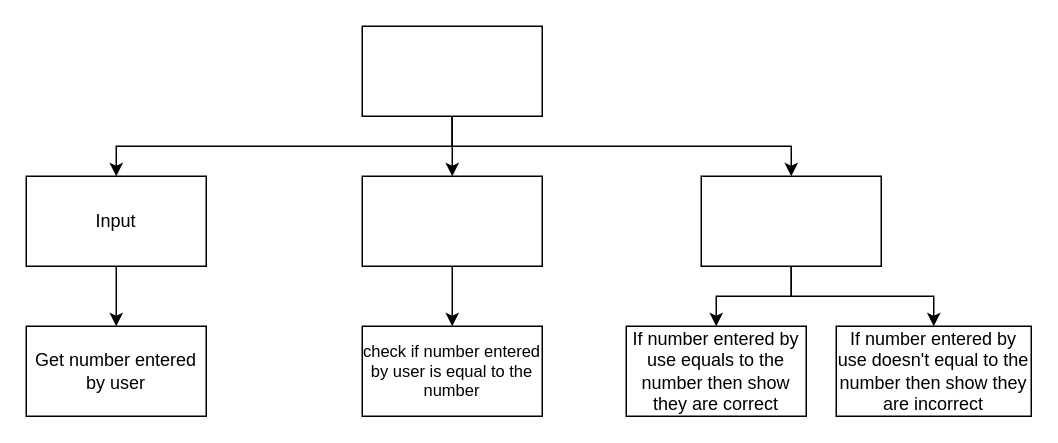
The diagram is 1058 pixels wide and 443 high, and some of its shapes have lost their labels. Each missing label, with the centre of its shape:
"Number Guessing Game" goes at [451,70].
"Output" goes at [790,220].
"Process" goes at [451,220].
